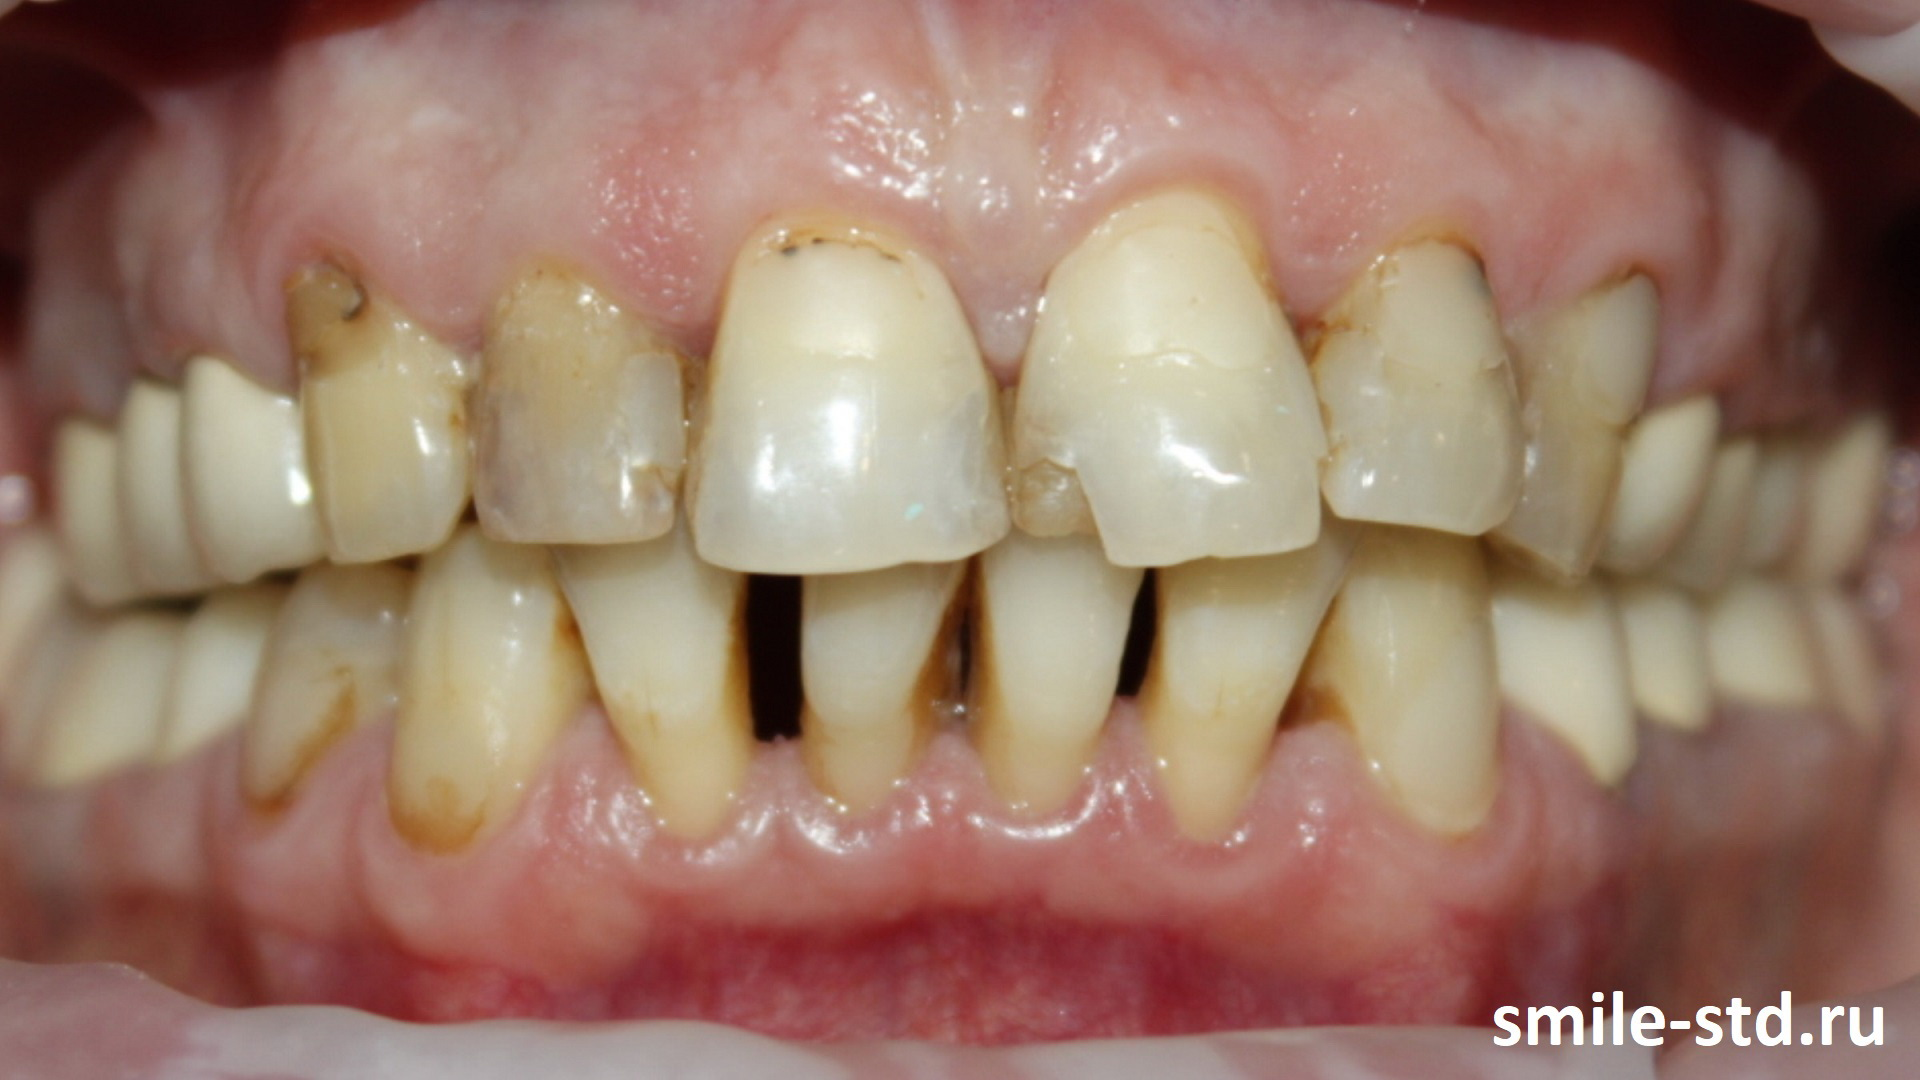LL1BC_healthy: (1503, 589, 1646, 800)
LL1M_healthy: (1709, 575, 1821, 721)
LL2BC_healthy: (1619, 584, 1724, 748)
LLCI_decay: (969, 538, 1135, 827)
LLC_healthy: (1324, 538, 1516, 827)
LLLI_healthy: (1145, 546, 1319, 833)
LR1BC_decay: (236, 574, 382, 819)
LRCI_healthy: (800, 559, 969, 822)
LRC_healthy: (380, 554, 589, 837)
LRLI_healthy: (556, 550, 769, 829)
UL1BC_healthy: (1621, 406, 1712, 578)
ULCI_decay: (1017, 193, 1332, 568)
ULC_decay: (1515, 262, 1658, 579)
ULLI_decay: (1324, 240, 1532, 529)
UR1BC_healthy: (169, 359, 330, 585)
UR2BC_healthy: (109, 388, 204, 622)
URCI_decay: (702, 204, 1017, 574)
URC_decay: (284, 269, 483, 556)
URLI_decay: (465, 265, 705, 550)
